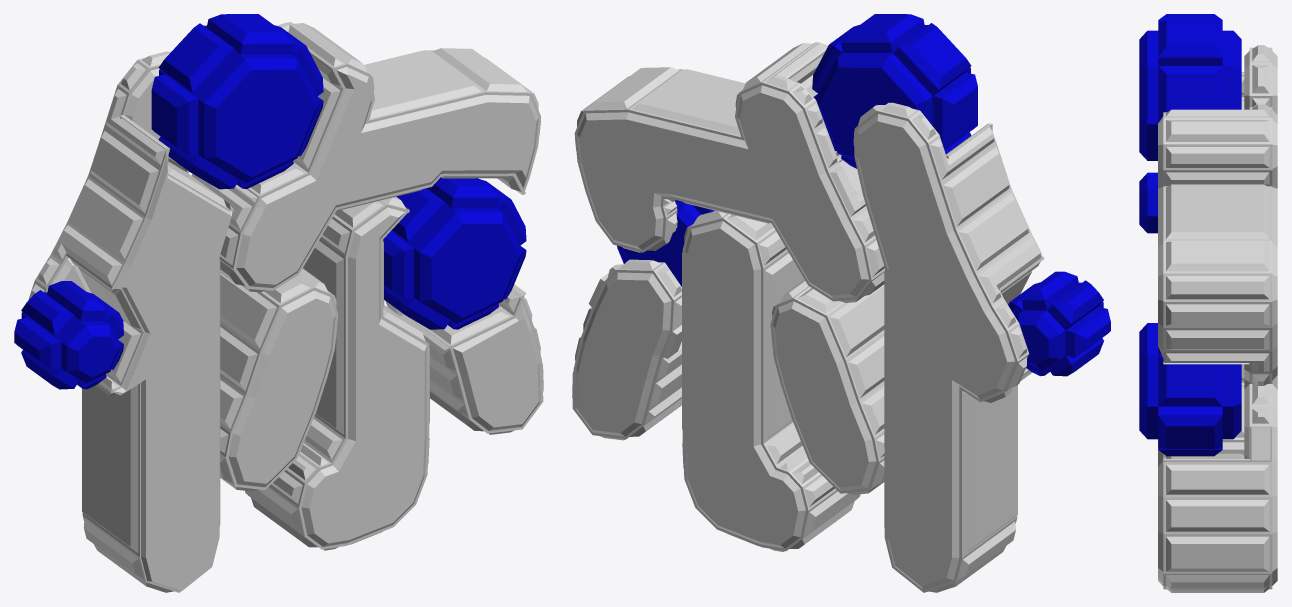
Rendered from Ch_China_你_01.fbx.
The picture shows the model from 3 angles, left to right: view 1: azimuth 30°, elevation 25°; view 2: azimuth 150°, elevation 25°; view 3: azimuth 270°, elevation 25°; orthographic projection. The views are drawn at different scales.
Visible parts, largest first — view 1: sphere1; view 2: sphere1; view 3: sphere1.
Boxes of the visible parts, x1,y1,x2,y2 form: sphere1: (14,14,543,592); sphere1: (572,14,1110,592); sphere1: (1139,14,1277,592).
Size of the model in its own units: 1.02 by 1.04 by 0.2541.
